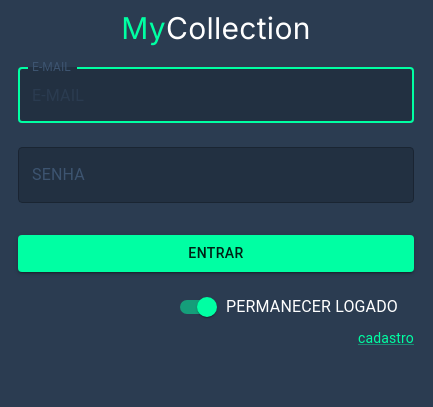
Test: Verifica erro quando e-mail não é preenchido
This screenshot has width=433, height=407.
What coordinates should you click on to do the following:
click the button
I would click on:
 (216, 253)
Its box is top-left (18, 235), bottom-right (414, 272).
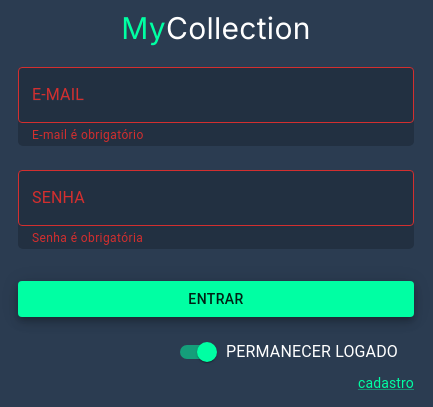
expect the text "E-mail é obrigatório" is shown: met, box top-left (32, 128), bottom-right (144, 142)
